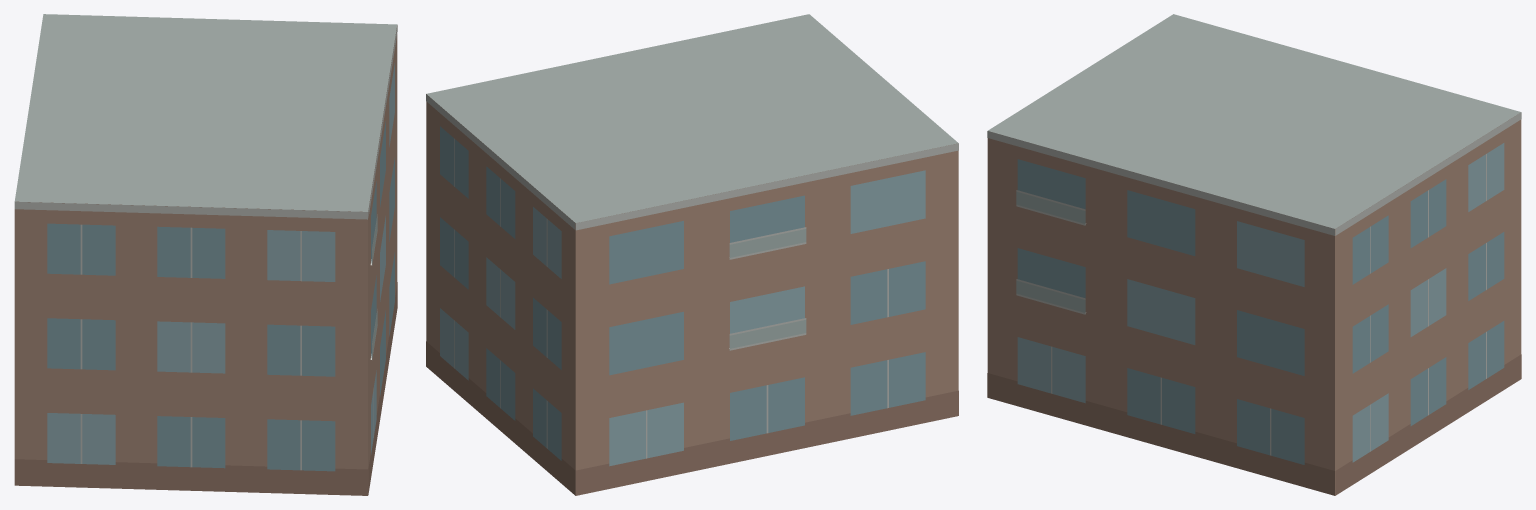
File: survey-upis-32787107.glb
3 renders of one model, left to right at view 1: azimuth 30°, elevation 25°; view 2: azimuth 150°, elevation 25°; view 3: azimuth 270°, elevation 25°, orthographic. The views are drawn at different scales.
Visible parts, largest first — view 1: survey-upis-32787107.tmp; view 2: survey-upis-32787107.tmp; view 3: survey-upis-32787107.tmp.
Part boxes in pixels (x1,y1,x2,y2): survey-upis-32787107.tmp: [14, 14, 397, 495]; survey-upis-32787107.tmp: [426, 14, 958, 495]; survey-upis-32787107.tmp: [987, 14, 1521, 495].
Size of the model in its own units: 15.82 by 9.15 by 16.6.
